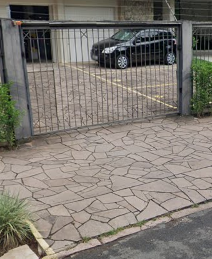vag6: (25, 159, 209, 259)
